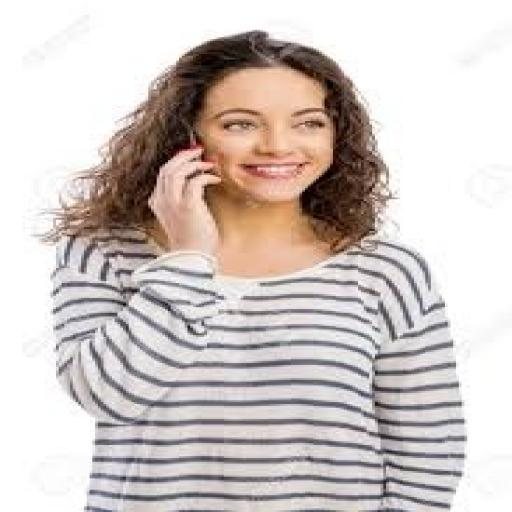calling: (39, 28, 470, 510)
